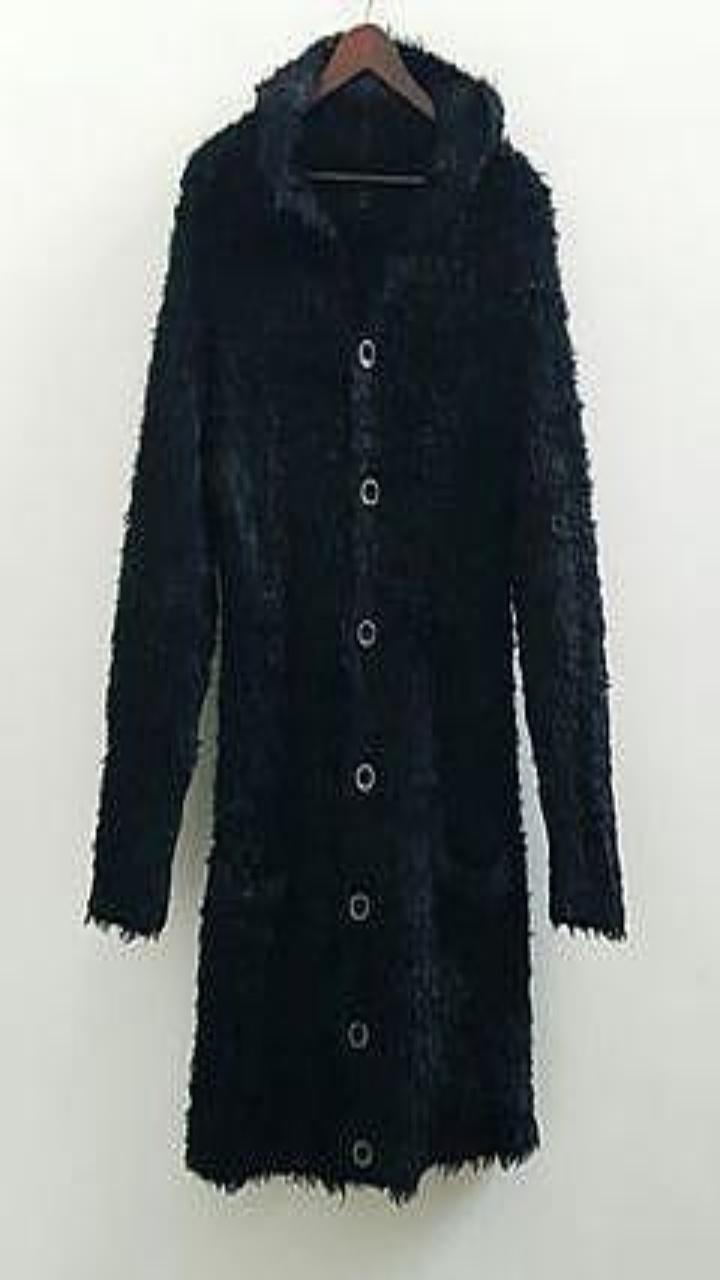Coat: (86, 34, 626, 1202)
